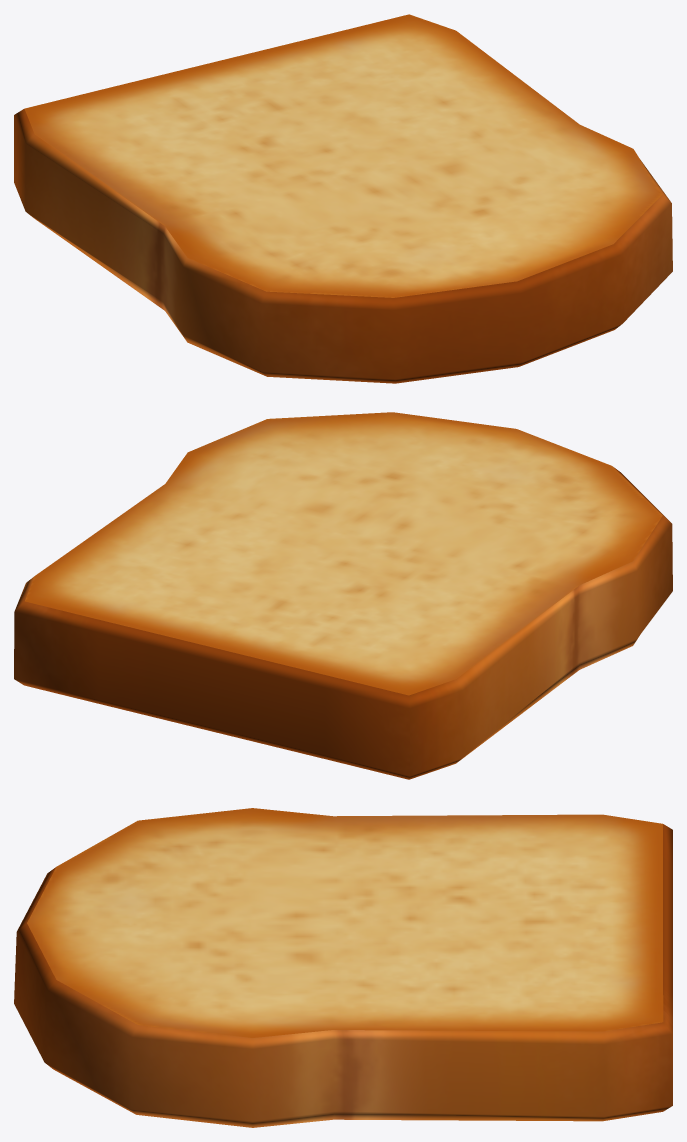
File: Loaf_Sliced.fbx
3 views of the same model, one above another, from view 1: azimuth 30°, elevation 25°; view 2: azimuth 150°, elevation 25°; view 3: azimuth 270°, elevation 25° (orthographic). The views are drawn at different scales.
Visible parts, largest first — view 1: Loaf_Sliced; view 2: Loaf_Sliced; view 3: Loaf_Sliced.
Boxes of the visible parts, x1,y1,x2,y2 form: Loaf_Sliced: [14, 14, 672, 383]; Loaf_Sliced: [14, 412, 672, 779]; Loaf_Sliced: [14, 808, 672, 1127].
Bounding box in the file's own units: 34.6 × 6.19 × 40.97.
